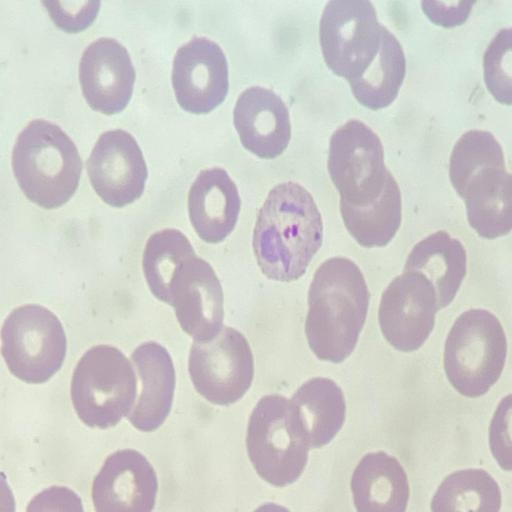Infected: (251, 181, 324, 285)
Uninfected: (304, 256, 371, 362), (12, 119, 83, 211), (444, 308, 509, 397), (247, 395, 310, 486), (184, 324, 254, 405), (70, 346, 136, 428), (343, 24, 405, 110), (404, 230, 467, 313), (3, 303, 64, 385), (87, 128, 149, 206), (340, 168, 400, 247), (378, 275, 439, 351), (328, 121, 385, 202), (124, 343, 176, 431), (169, 257, 224, 340), (171, 35, 229, 113), (318, 0, 378, 75), (79, 38, 136, 116), (234, 85, 293, 159), (93, 448, 158, 512), (142, 228, 196, 304), (189, 166, 242, 243), (448, 128, 504, 199), (350, 450, 413, 512), (293, 379, 347, 448), (468, 169, 512, 239)
